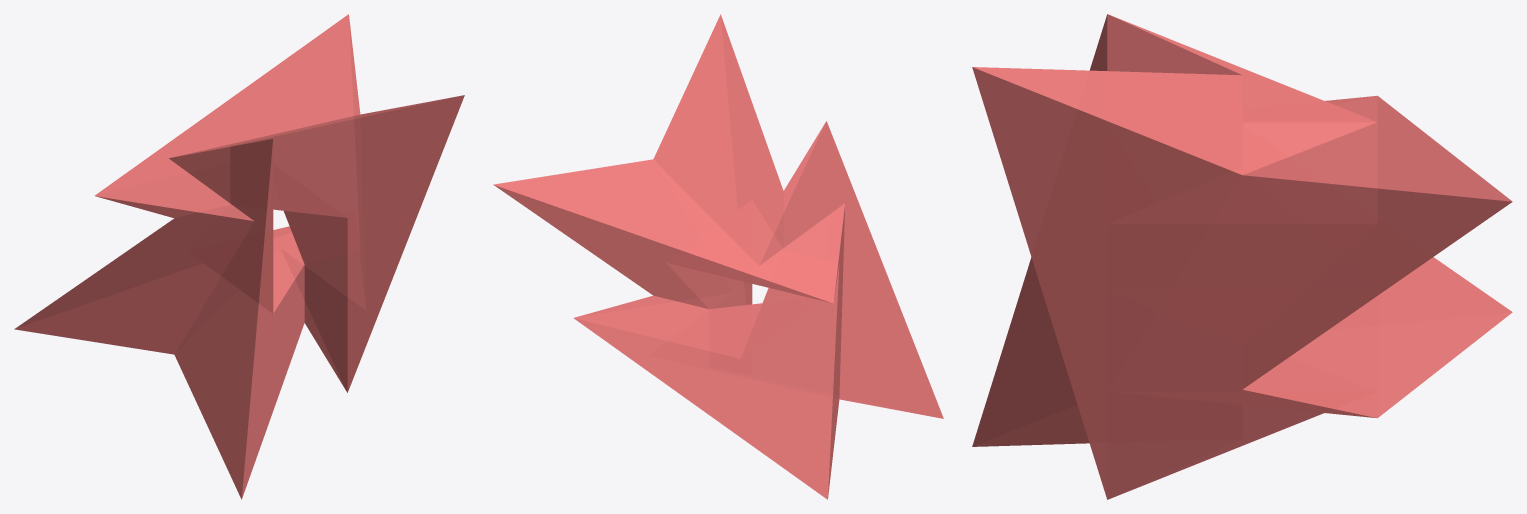
The model's file is CairoTiling_C.obj.
3 views of the same model, side by side, from view 1: azimuth 30°, elevation 25°; view 2: azimuth 150°, elevation 25°; view 3: azimuth 270°, elevation 25° (orthographic). The views are drawn at different scales.
Bounding box in the file's own units: 18 × 18 × 16.
